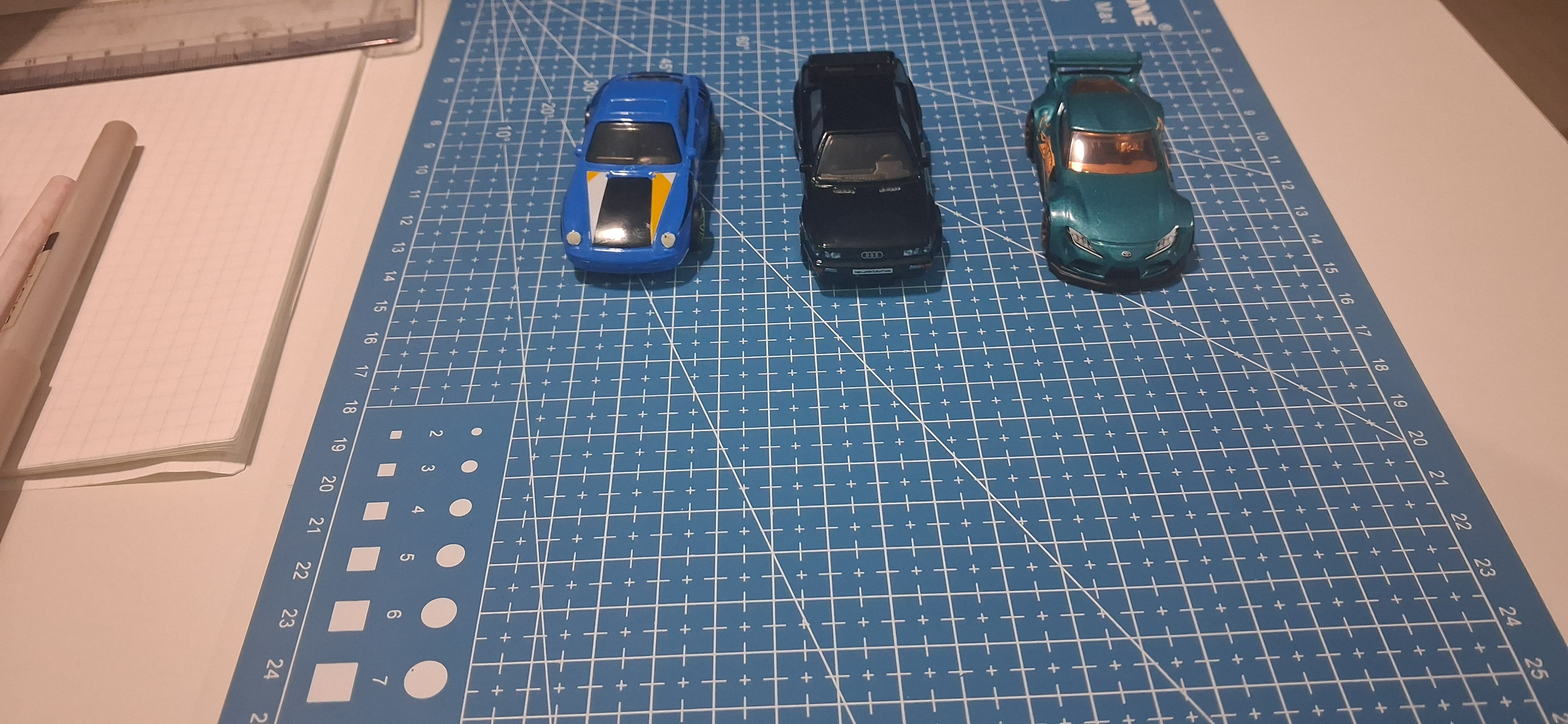Audi_Quattro: (769, 43, 976, 316)
Porsche_Carrera: (549, 43, 748, 330)
Toyota_GR_Supra: (987, 28, 1242, 332)
